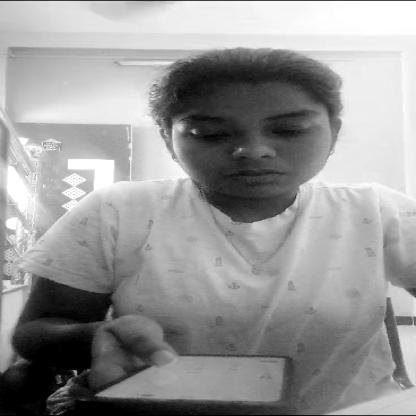Normal: (166, 95, 329, 199)
